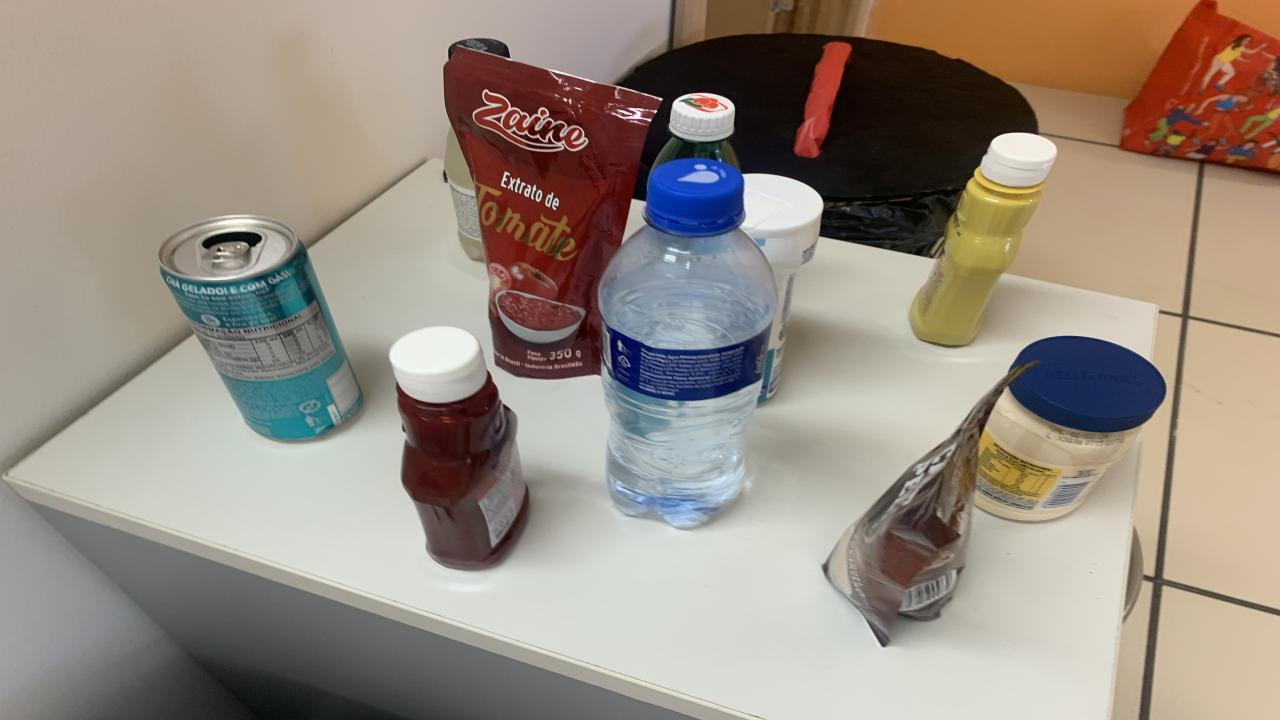Cleaner-Cleanup_Items: (740, 174, 822, 401)
Coffee-Pantry_Items: (822, 364, 1032, 645)
Guarana-Drinks: (652, 92, 740, 169)
Ketchup-Pantry_Items: (390, 326, 528, 570)
Mayonnaise-Pantry_Items: (975, 336, 1165, 521)
Mustard-Pantry_Items: (910, 133, 1058, 345)
Soda-Drinks: (445, 128, 485, 262), (448, 38, 510, 58)
Tea-Drinks: (160, 216, 362, 441)
Tomato_Sauce-Pantry_Items: (445, 47, 660, 379)
Water_Bottle-Drinks: (598, 158, 778, 525)
